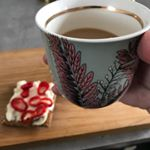cups: (33, 1, 150, 112)
